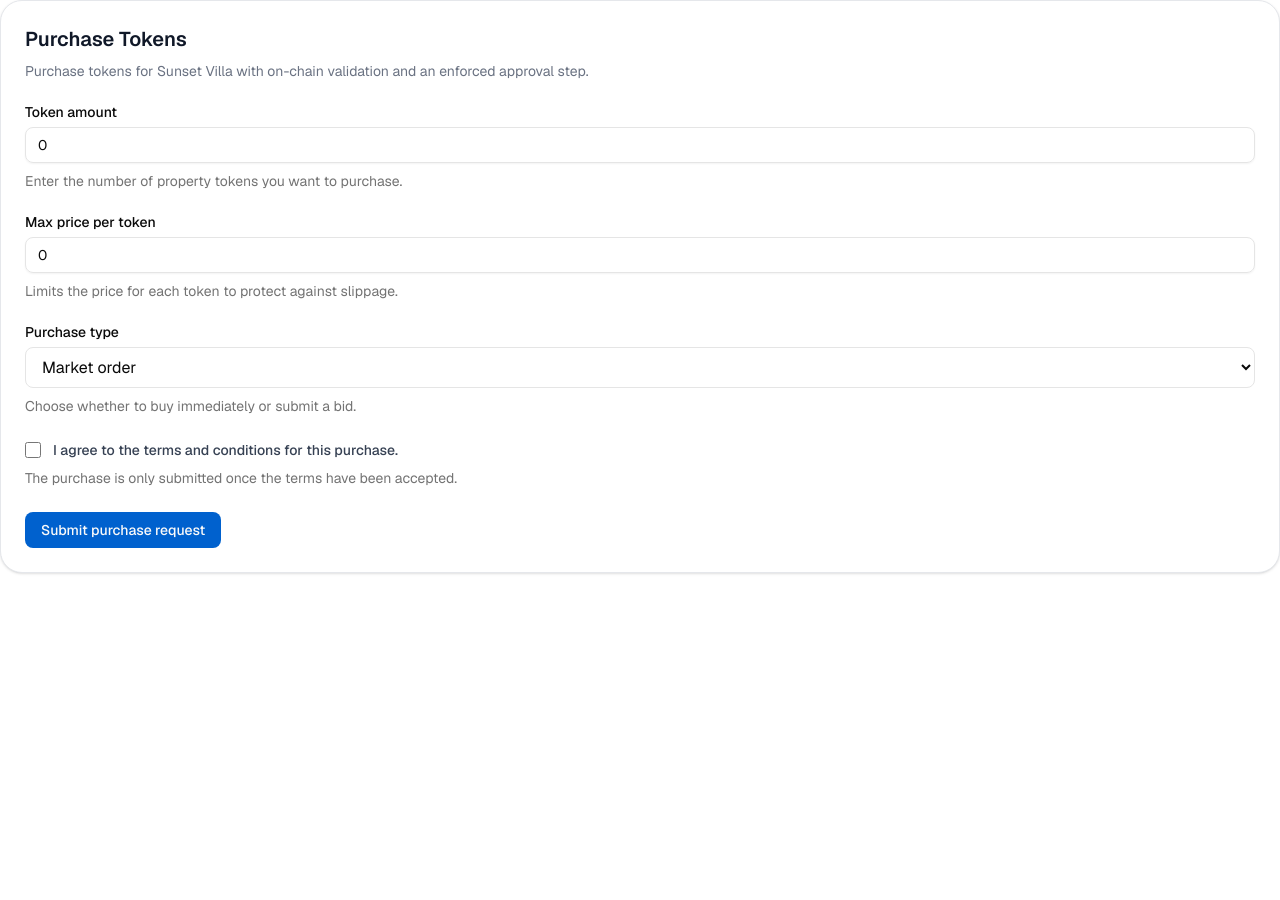
Test: PurchaseTokenForm accessibility › collects the errors of a refused submission in an error summary
Step 1. Click the button "Submit purchase request" → (123, 530), box top-left (25, 512), bottom-right (221, 548)
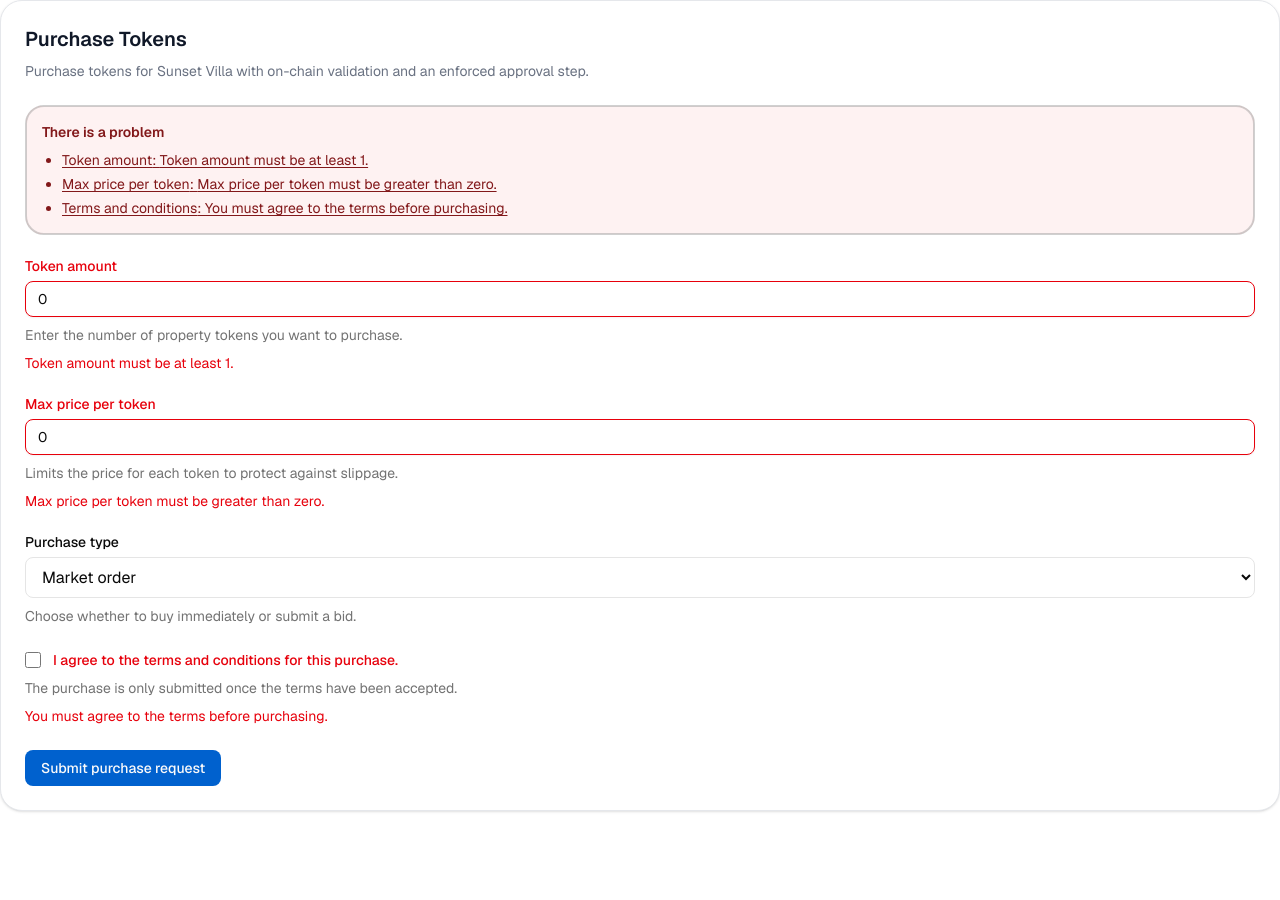
Expected: the message "There is a problem" is shown, top-left (42, 123), bottom-right (164, 141)
Expected: the message "There is a problem" shows "Token amount", top-left (62, 150), bottom-right (368, 170)
Expected: the message "There is a problem" shows "at least 1", top-left (62, 150), bottom-right (368, 170)
